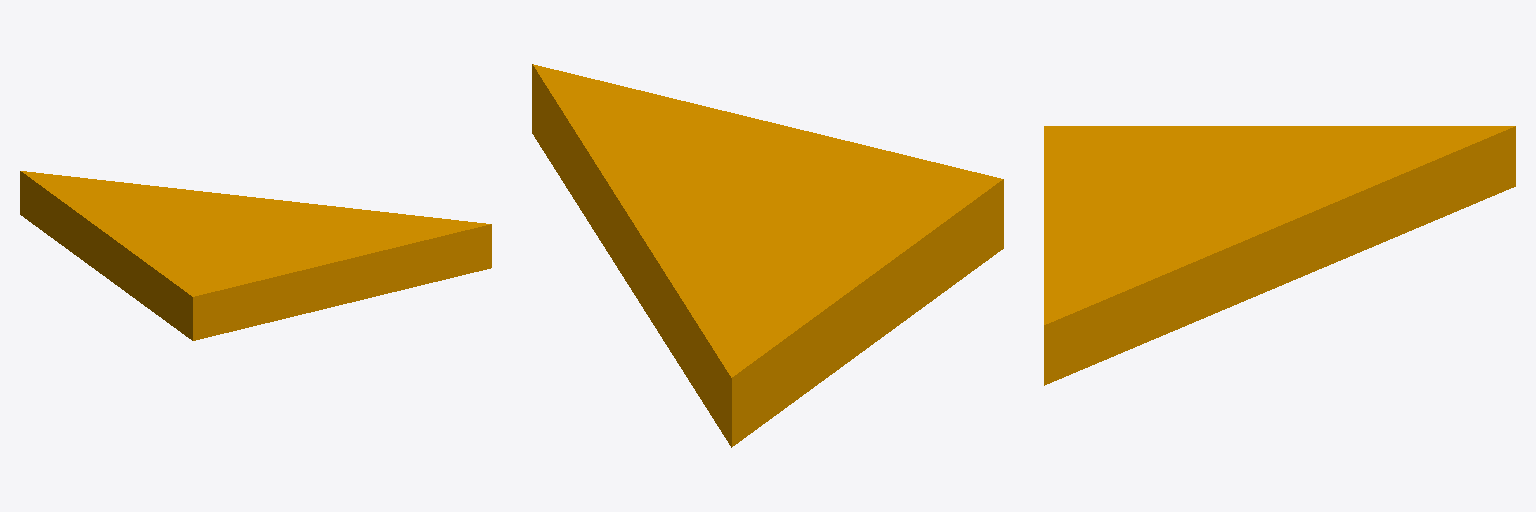
URDF robot description (cube):
<robot name="cube">
    <link name="cube">
        <contact>
            <lateral_friction value="0.1" />
        </contact>
        <inertial>
            <origin xyz="0 0 -0.1" rpy="0 0 0" />
            <mass value="0.2" />
            <inertia ixx="0" ixy="0" ixz="0" iyy="0" iyz="0" izz="0" />
        </inertial>
        <visual>
            <origin xyz="0 0 0" rpy="0 0 0" />
            <geometry>
                <mesh filename="1.stl" scale="0.001 0.001 0.001"/>
            </geometry>
        </visual>
        <collision>
            <origin xyz="0 0 0" rpy="0 0 0" />
            <geometry>
               <mesh filename="1.stl" scale="0.001 0.001 0.001"/>
            </geometry>
        </collision>
    </link>
</robot>

--- Render facts (derived) ---
The picture shows the robot from 3 angles, left to right: view 1: azimuth 30°, elevation 25°; view 2: azimuth 150°, elevation 25°; view 3: azimuth 270°, elevation 25°; orthographic projection.
Robot: cube — 1 links, 0 joints (none); root link cube; default pose: every joint at zero.
Visible links, largest first — view 1: cube; view 2: cube; view 3: cube.
Link boxes in pixels (x1,y1,x2,y2): cube: (20, 171, 491, 340); cube: (532, 64, 1003, 447); cube: (1044, 126, 1515, 385).
Bounding box of the posed robot: 0.0707 × 0.0707 × 0.01 m (x, y, z).
1 mesh visuals loaded from 1 distinct referenced files (1 binary STL).